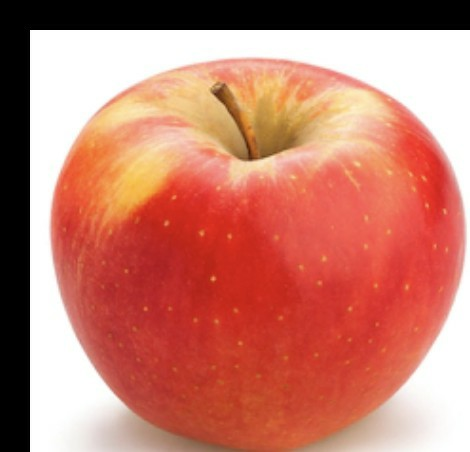fresh_apple: (54, 57, 470, 452)
